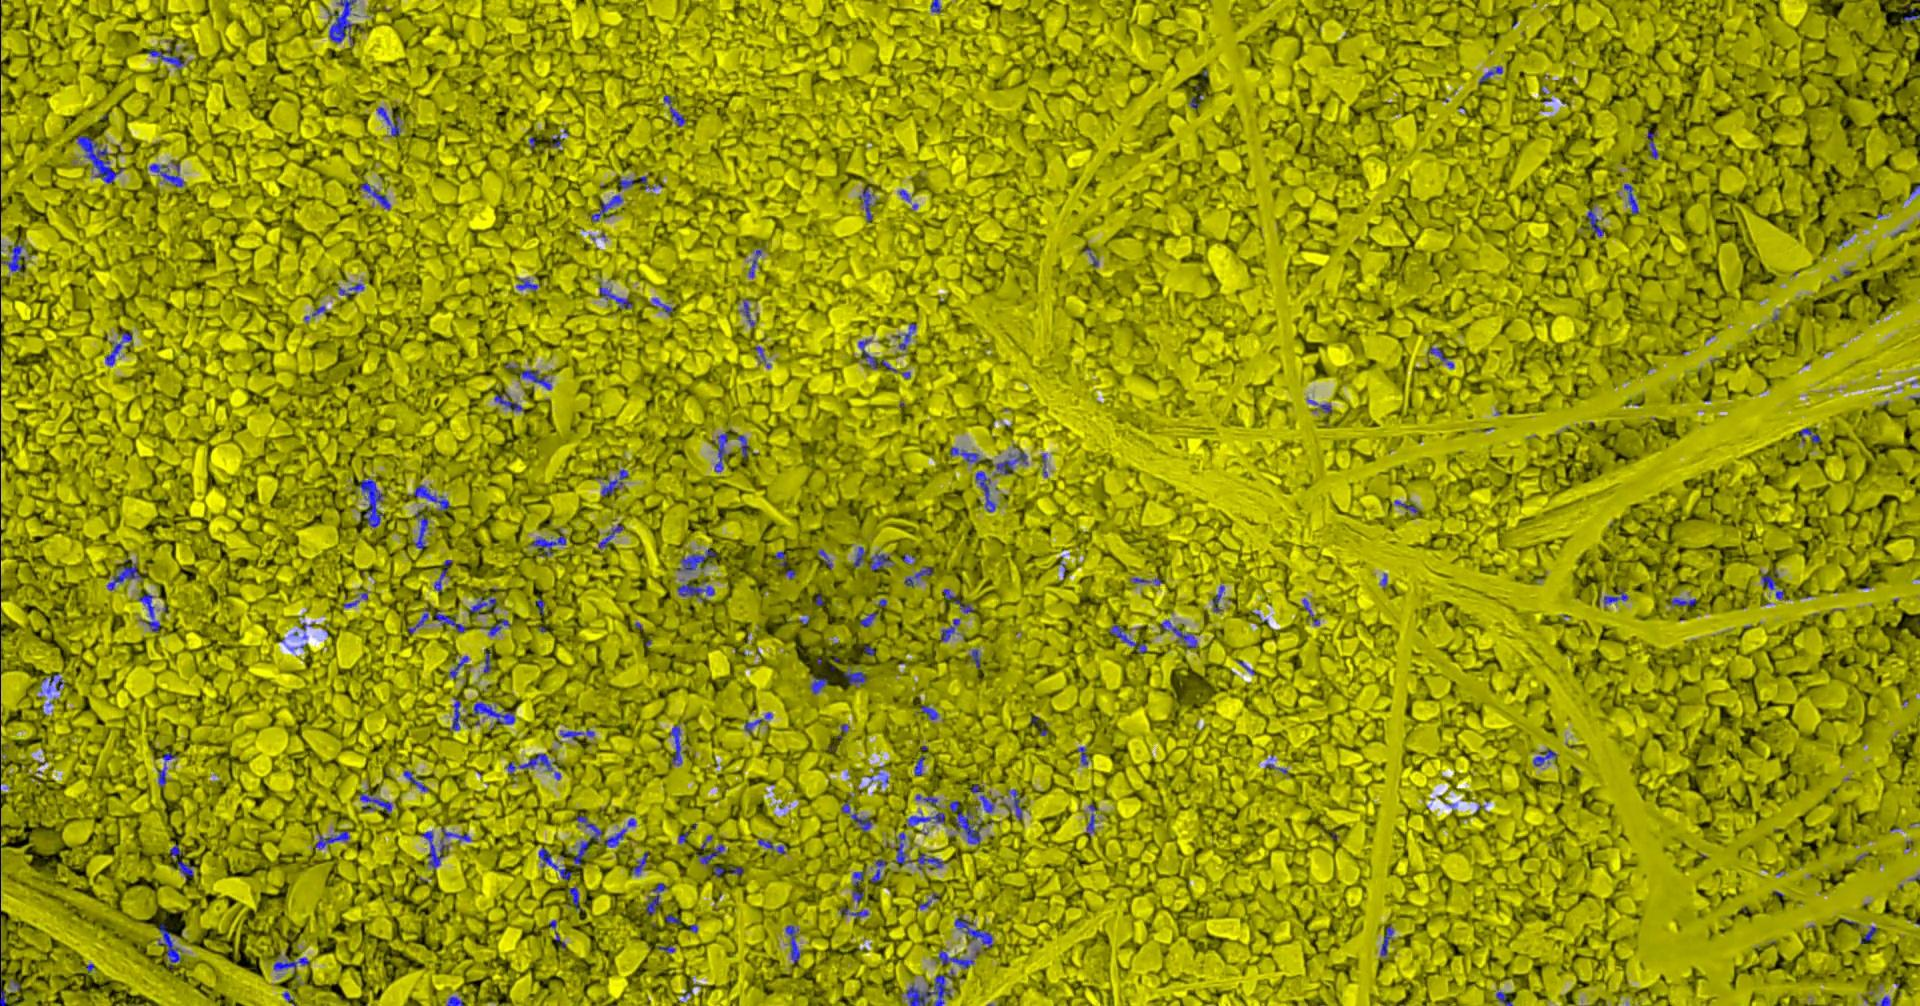ant: (76, 135, 124, 182), (905, 969, 952, 1005), (949, 800, 982, 843), (857, 338, 897, 372), (954, 915, 990, 949), (328, 0, 356, 44), (357, 479, 382, 527), (105, 558, 141, 589), (408, 484, 450, 511), (1161, 619, 1197, 648), (1109, 624, 1145, 653), (156, 922, 180, 967), (420, 831, 448, 869), (530, 528, 565, 556), (471, 701, 514, 724), (505, 753, 552, 774), (598, 281, 632, 307), (137, 593, 160, 633), (105, 332, 132, 365), (677, 547, 715, 570), (359, 182, 390, 210), (590, 194, 622, 221), (596, 469, 627, 495), (147, 46, 184, 69), (149, 161, 183, 185), (975, 470, 996, 511), (432, 608, 465, 633), (942, 588, 973, 614), (376, 105, 400, 136), (996, 451, 1027, 474), (0, 243, 25, 271), (514, 370, 551, 389), (663, 94, 684, 126), (645, 882, 667, 913), (711, 433, 729, 471), (575, 815, 602, 841), (314, 829, 349, 848), (937, 949, 973, 968), (157, 751, 175, 786), (493, 391, 523, 412), (858, 187, 876, 221), (433, 559, 452, 591), (359, 793, 391, 812), (598, 525, 623, 547), (905, 810, 943, 826), (696, 843, 724, 864), (916, 848, 943, 869), (949, 447, 985, 462), (677, 584, 714, 600), (785, 925, 799, 964), (1427, 347, 1453, 368), (273, 956, 309, 972), (413, 509, 427, 547), (469, 594, 497, 614), (894, 832, 910, 864), (403, 770, 427, 791), (408, 607, 428, 633), (904, 567, 931, 586), (1004, 789, 1021, 819), (850, 808, 871, 831), (1586, 207, 1603, 236), (898, 323, 916, 349), (1302, 598, 1319, 625), (1623, 183, 1638, 213), (448, 655, 469, 678), (41, 672, 63, 692), (669, 725, 681, 765), (739, 298, 754, 328), (441, 827, 470, 842), (757, 838, 786, 854), (571, 840, 588, 866), (940, 619, 959, 641), (603, 828, 626, 847), (1478, 66, 1502, 84), (1531, 748, 1556, 766), (448, 697, 461, 730), (538, 847, 557, 869), (631, 851, 648, 875), (1380, 925, 1393, 955), (869, 553, 890, 570), (1797, 427, 1820, 443), (177, 860, 196, 879), (488, 619, 509, 635), (1646, 131, 1658, 159), (748, 249, 761, 277), (1599, 591, 1627, 603), (870, 859, 885, 882), (1394, 499, 1418, 513), (842, 671, 866, 685), (852, 871, 863, 901), (338, 283, 363, 296), (1211, 586, 1224, 611), (858, 611, 877, 627), (651, 298, 672, 314), (0, 970, 9, 1005), (810, 676, 827, 694), (1086, 803, 1095, 836), (516, 277, 538, 290), (737, 434, 749, 457), (744, 718, 763, 733), (841, 906, 869, 916), (979, 795, 996, 812), (1131, 577, 1162, 586), (559, 729, 593, 737), (568, 887, 579, 909), (852, 546, 865, 567), (1860, 926, 1876, 942), (919, 705, 937, 719), (1495, 991, 1512, 1005), (1670, 597, 1697, 606), (483, 648, 491, 673), (916, 794, 937, 804), (1761, 575, 1777, 589), (914, 754, 924, 775), (1076, 746, 1087, 763), (970, 649, 980, 667), (775, 551, 786, 567), (446, 996, 463, 1005), (665, 913, 681, 923)
